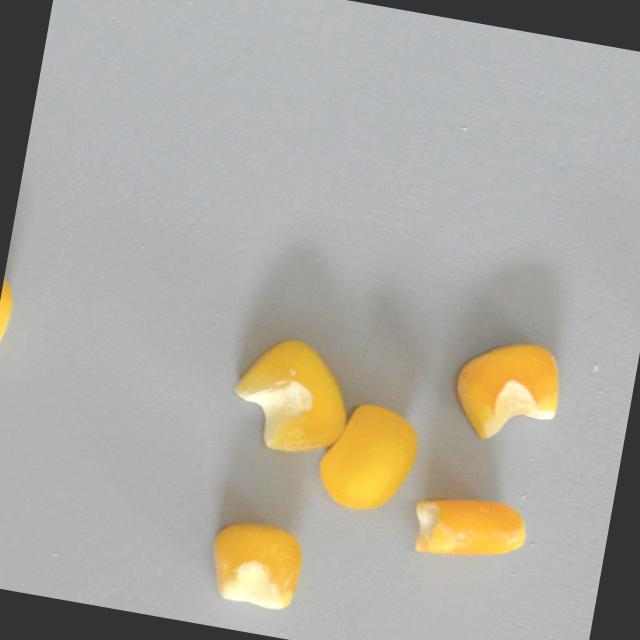estandar: (405, 485, 533, 571)
no_canjicado: (309, 392, 422, 519), (202, 514, 313, 615), (0, 266, 17, 361)
no_desgerminado: (444, 328, 569, 453)
pelicula: (221, 329, 360, 461)
